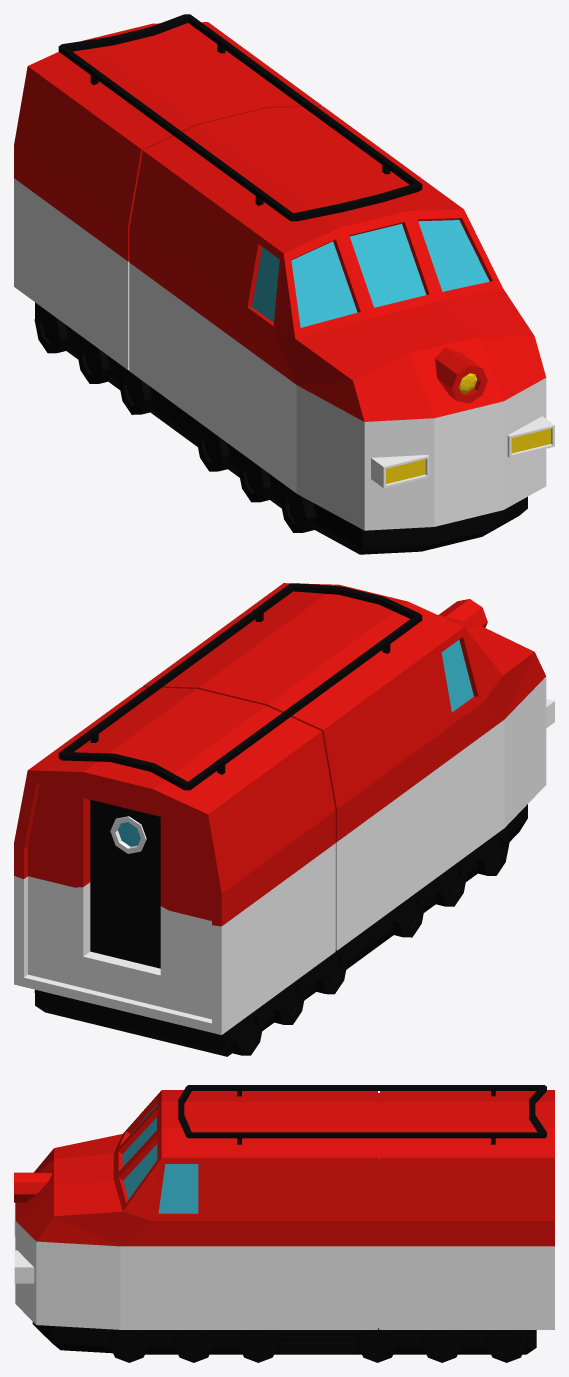
Rendered from Train_01.obj.
The picture shows the model from 3 angles, top to bottom: view 1: azimuth 30°, elevation 25°; view 2: azimuth 150°, elevation 25°; view 3: azimuth 270°, elevation 25°; orthographic projection. The views are drawn at different scales.
Parts seen in each view (by area): view 1: Train_Cube.024; view 2: Train_Cube.024; view 3: Train_Cube.024.
Boxes of the visible parts, x1,y1,x2,y2 form: Train_Cube.024: (14,14,554,554); Train_Cube.024: (14,583,554,1056); Train_Cube.024: (14,1085,554,1362).
Bounding box in the file's own units: 7.52 × 9.79 × 22.08.
